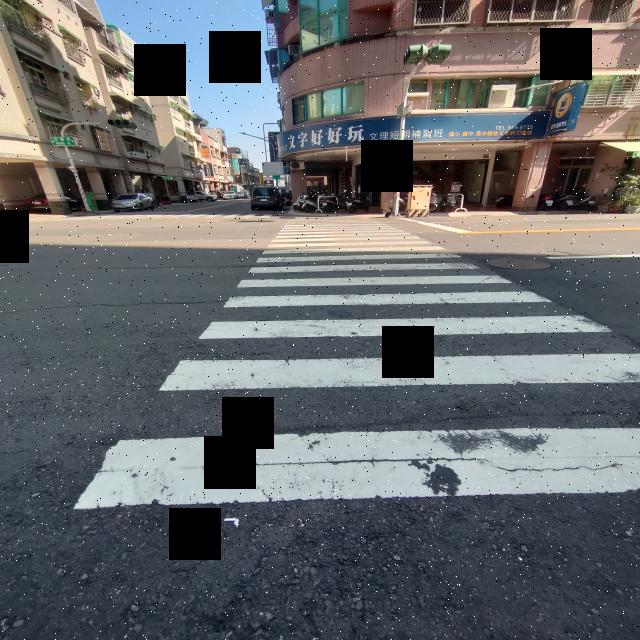zebra_crossing: (250, 0, 323, 475), (227, 107, 321, 322)
